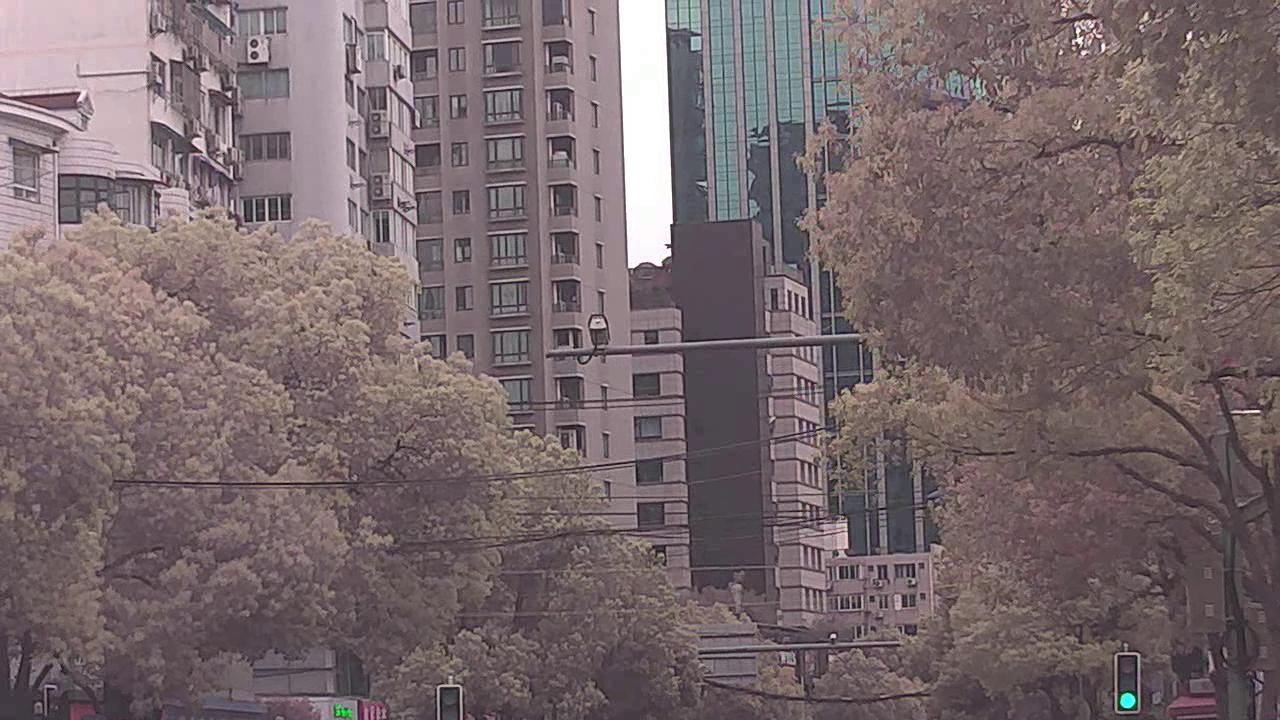traffic_light: (1116, 651, 1143, 713)
